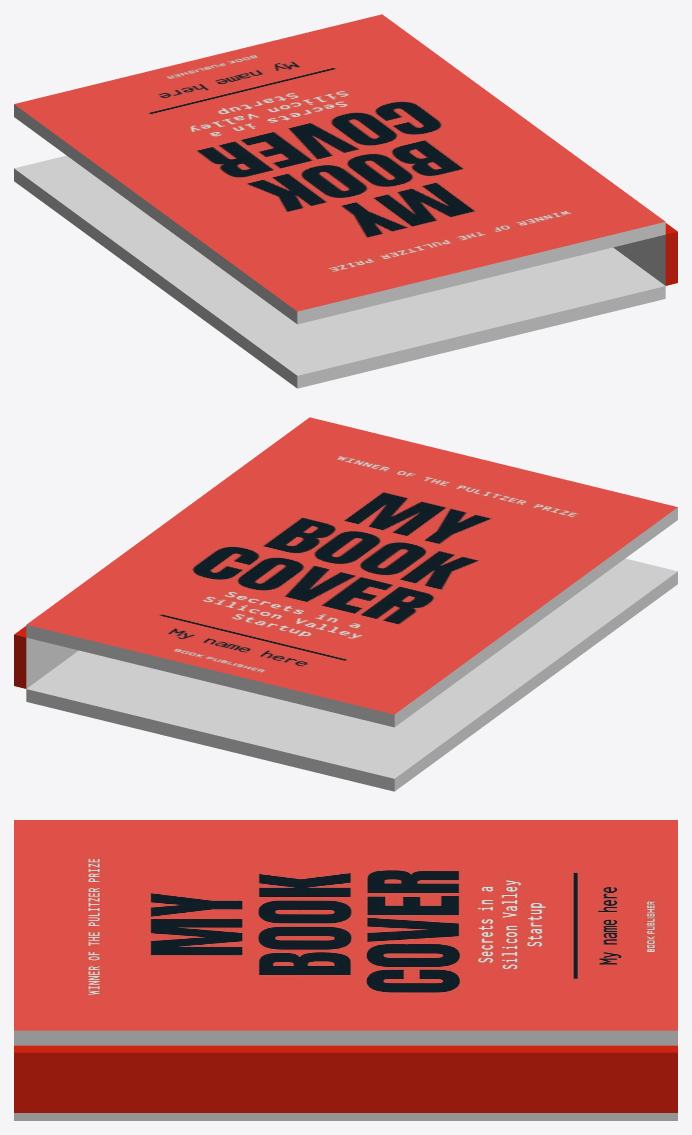
The model's file is bookColorUvTest.gltf.
3 views of the same model, one above another, from view 1: azimuth 30°, elevation 25°; view 2: azimuth 150°, elevation 25°; view 3: azimuth 270°, elevation 25° (orthographic). The views are drawn at different scales.
Visible parts, largest first — view 1: Cover R, Cover L, Spine; view 2: Cover R, Cover L, Spine; view 3: Cover R, Spine, Cover L.
Boxes of the visible parts, bbox=[...] form: Cover R: bbox=[14, 14, 665, 324]; Cover L: bbox=[14, 155, 665, 388]; Spine: bbox=[613, 223, 677, 285]; Cover R: bbox=[26, 417, 677, 727]; Cover L: bbox=[26, 558, 677, 791]; Spine: bbox=[14, 626, 78, 688]; Cover R: bbox=[14, 820, 677, 1045]; Spine: bbox=[14, 1045, 677, 1112]; Cover L: bbox=[14, 1113, 677, 1120].
Bounding box in the file's own units: 1.55 × 0.3 × 2.
4 materials, 2 textured.
